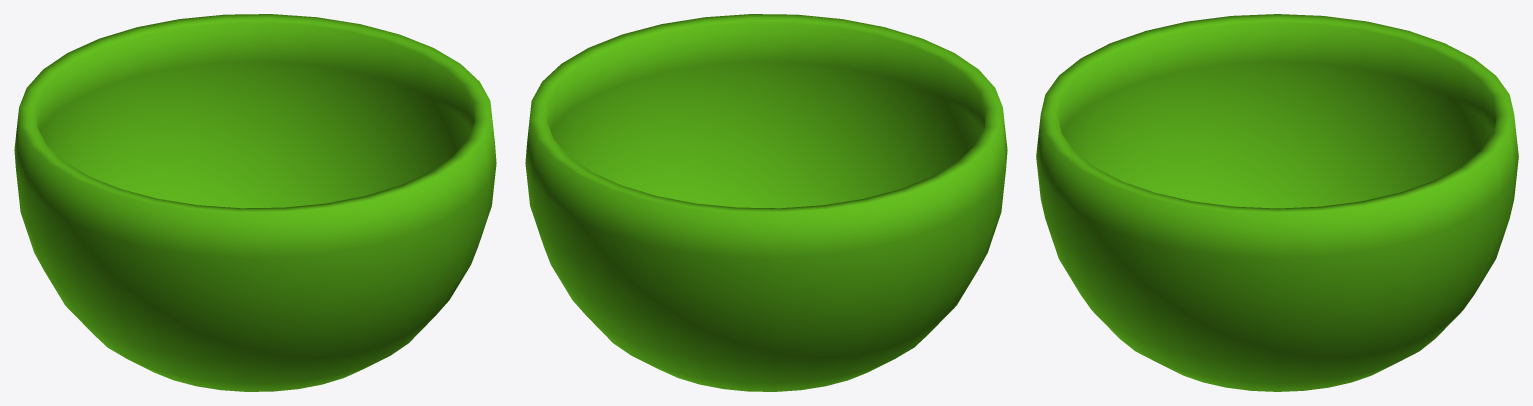
3 renders of one model, left to right at view 1: azimuth 30°, elevation 25°; view 2: azimuth 150°, elevation 25°; view 3: azimuth 270°, elevation 25°, orthographic.
Visible parts, largest first — view 1: Sphere.017; view 2: Sphere.017; view 3: Sphere.017.
Part boxes in pixels (x1,y1,x2,y2): Sphere.017: [14, 14, 496, 391]; Sphere.017: [525, 14, 1007, 391]; Sphere.017: [1036, 14, 1518, 391].
Bounding box in the file's own units: 0.3435 × 0.1868 × 0.3435.
